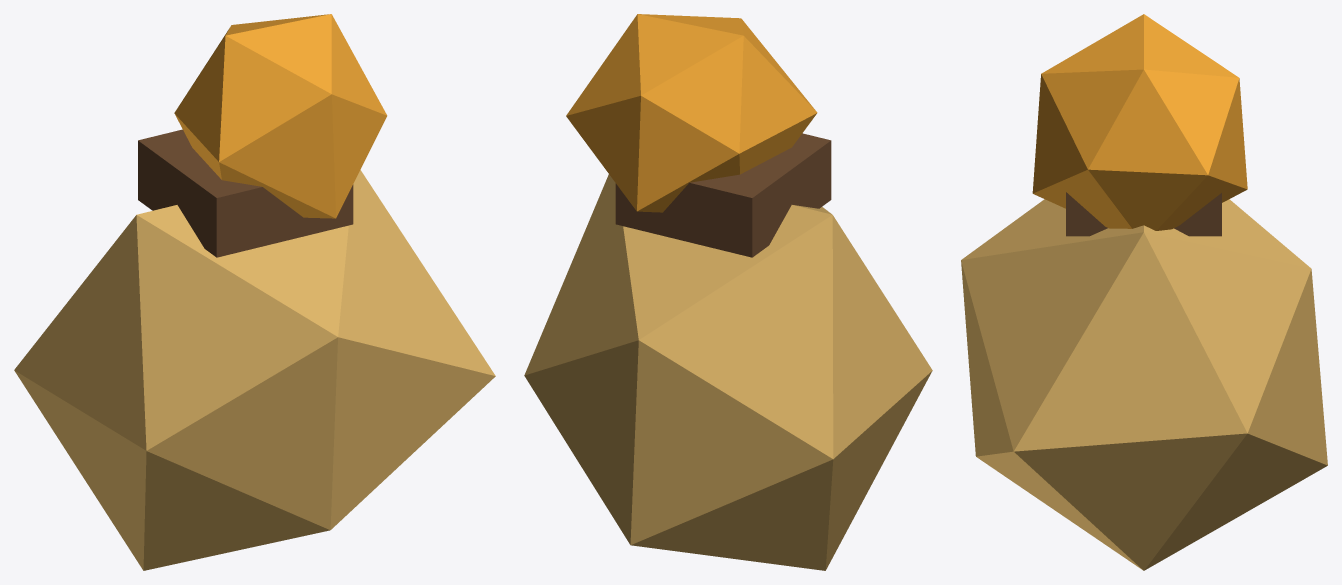
The model's file is sack.glb.
3 renders of one model, left to right at view 1: azimuth 30°, elevation 25°; view 2: azimuth 150°, elevation 25°; view 3: azimuth 270°, elevation 25°, orthographic.
Parts seen in each view (by area): view 1: Model; view 2: Model; view 3: Model.
Boxes of the visible parts, x1,y1,x2,y2 form: Model: (14,14,495,570); Model: (524,14,932,570); Model: (961,14,1327,570).
Size of the model in its own units: 0.3118 by 0.4324 by 0.282.
